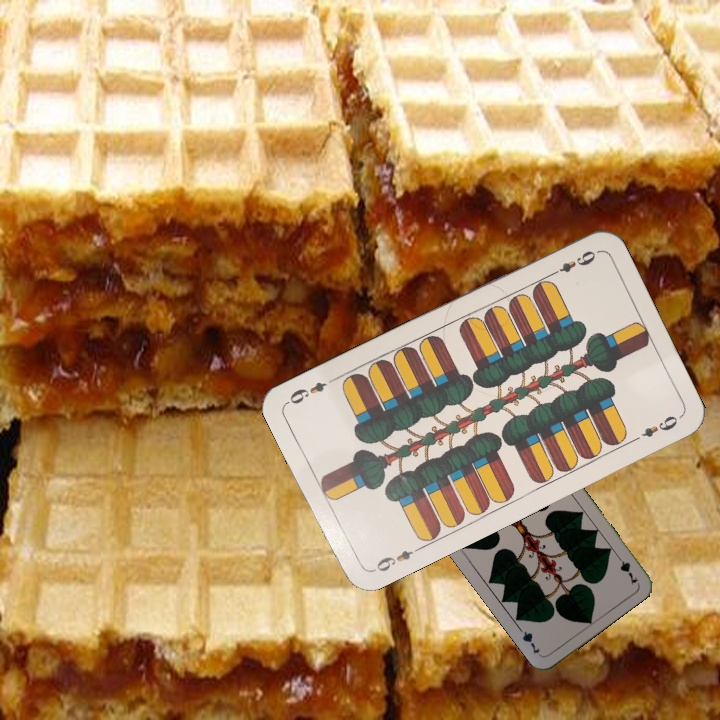E9: (545, 246, 600, 280), (367, 543, 422, 575)
G7: (612, 549, 641, 587)
